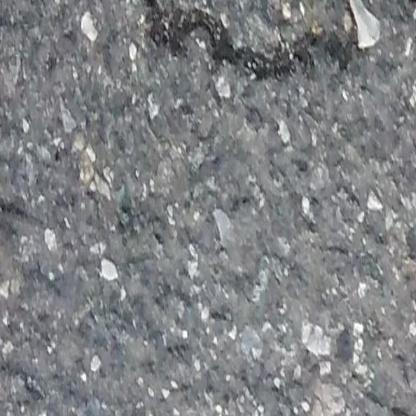Cracks: (136, 0, 395, 99), (398, 0, 416, 69)
